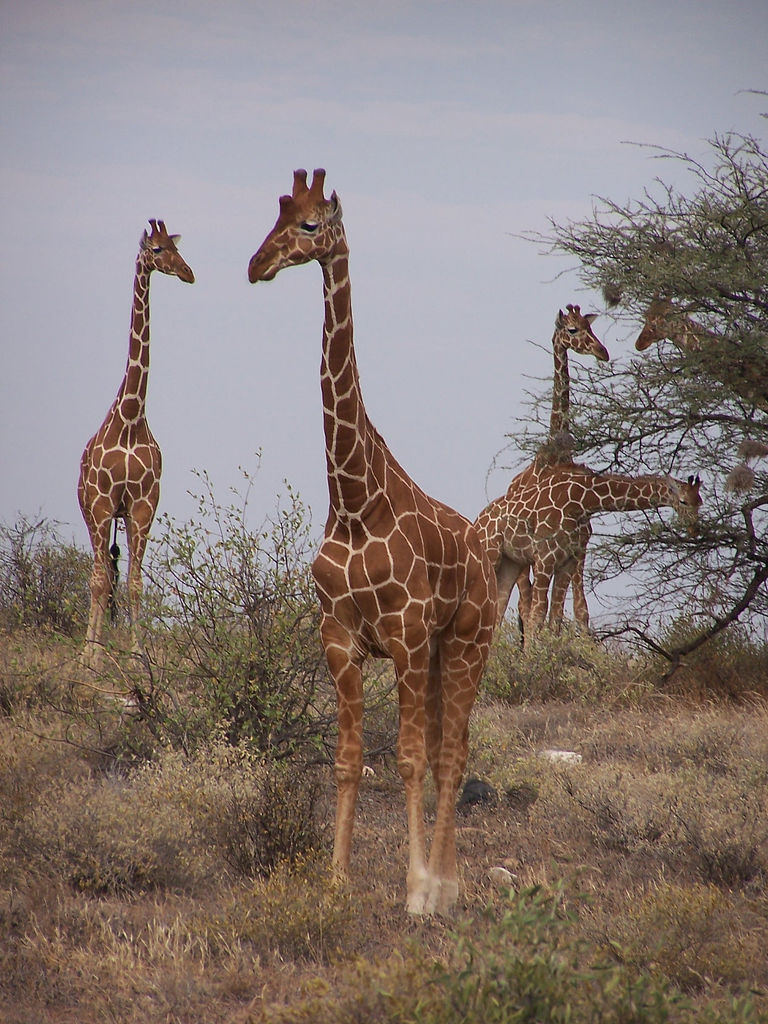giraffe: (243, 153, 489, 928), (58, 198, 214, 664), (472, 464, 721, 633), (537, 289, 608, 480)
